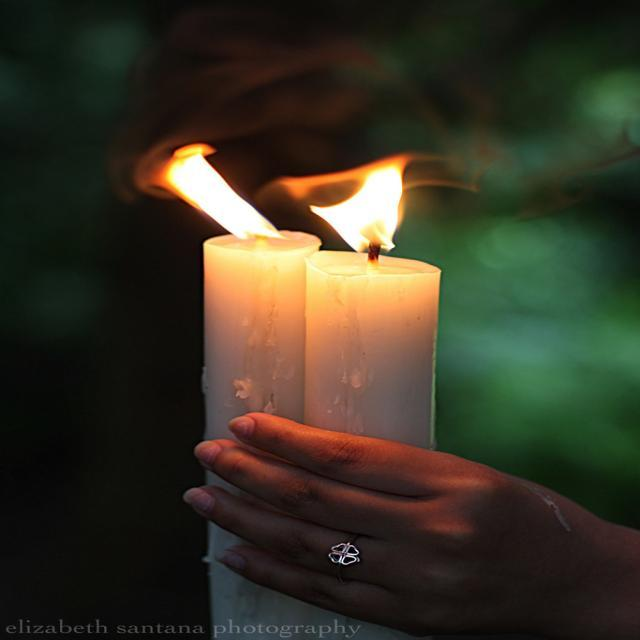Fire: (321, 176, 408, 254), (190, 172, 272, 226)
